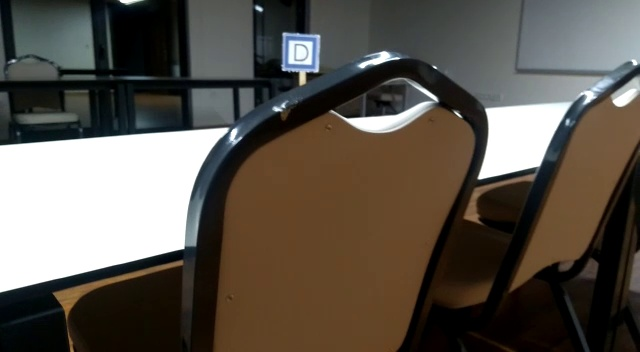durak: (282, 33, 319, 73)
